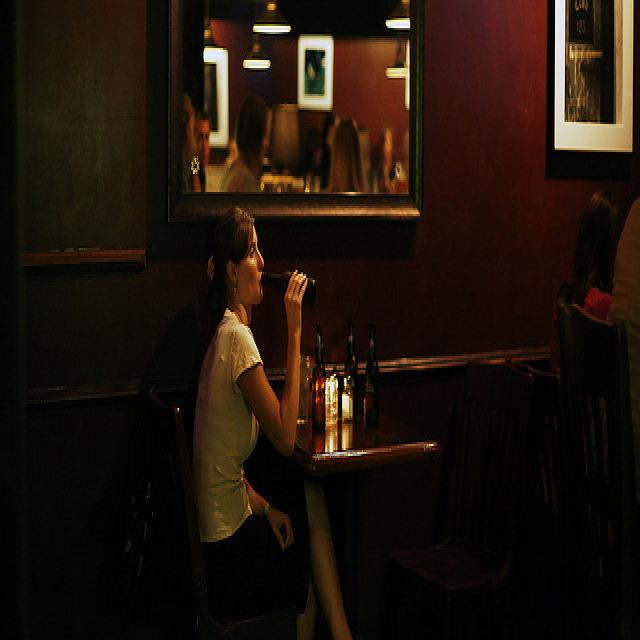Bottle: (366, 298, 396, 453), (260, 263, 331, 313), (332, 351, 364, 448), (308, 314, 325, 463)
People: (170, 180, 276, 587), (575, 136, 628, 315)
chair: (451, 321, 582, 640), (128, 384, 254, 640), (557, 287, 640, 587)
